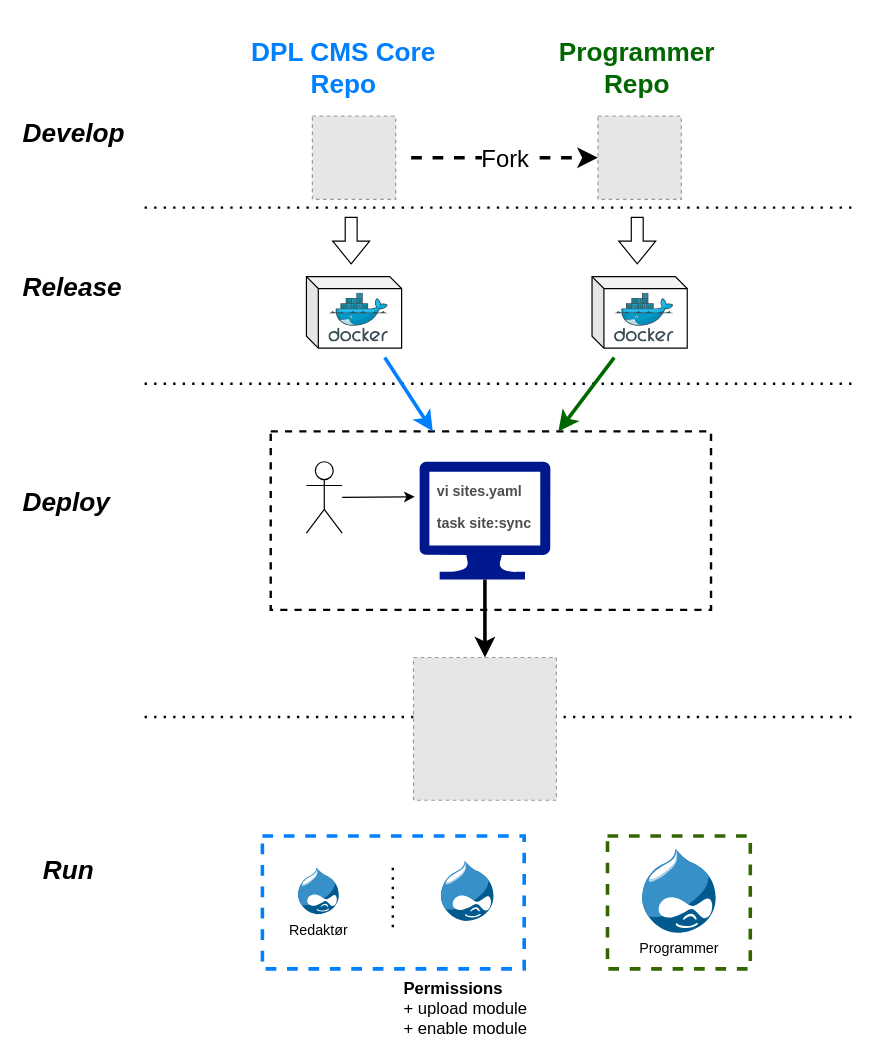
Image size: 881x1058. Some labels were removed from this diagram. Grey dashed boxes stand in for pictures. Here are the shapes that lost their labels. From the top down, the box of each, then its label:
(305, 461, 342, 533): operator
(440, 860, 493, 921): Webmaster
